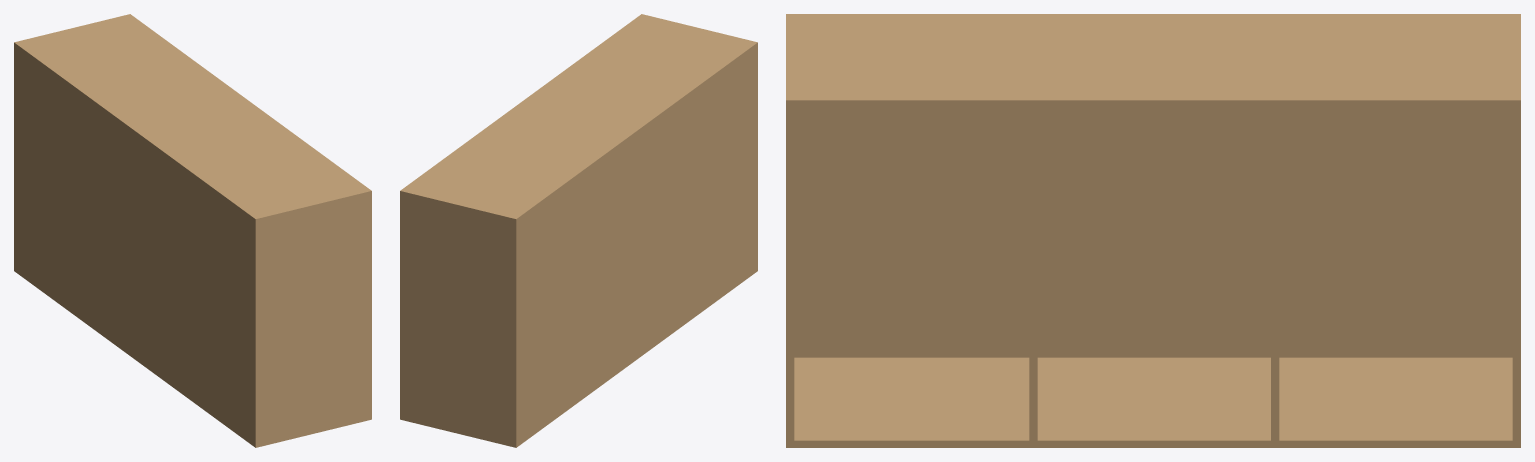
The model's file is nil_link_mesh.dae.
3 views of the same model, side by side, from view 1: azimuth 30°, elevation 25°; view 2: azimuth 150°, elevation 25°; view 3: azimuth 270°, elevation 25° (orthographic). The views are drawn at different scales.
Visible parts, largest first — view 1: nil_link (×5); view 2: nil_link (×5); view 3: nil_link (×7).
Boxes of the visible parts, x1,y1,x2,y2 form: nil_link (×5): [14, 14, 371, 447]; nil_link (×5): [400, 14, 757, 447]; nil_link (×7): [786, 14, 1520, 447].
Bounding box in the file's own units: 0.25 × 0.47 × 0.9.
